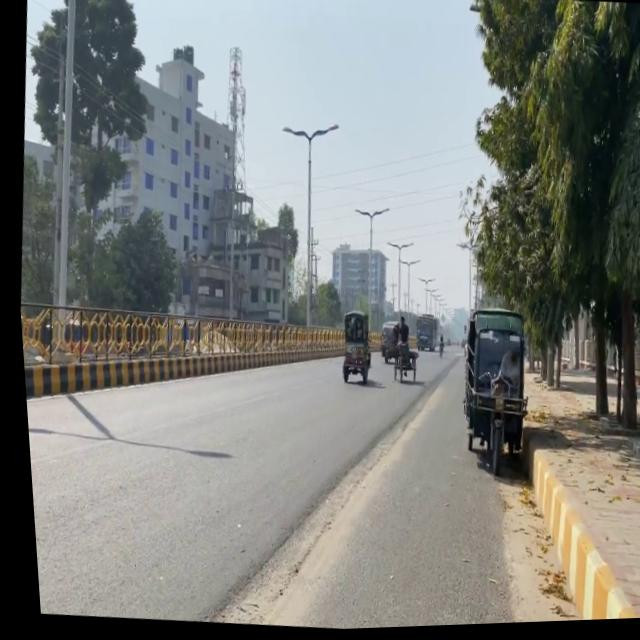Construction-barrier: (209, 419, 411, 635), (499, 429, 640, 626)
Fallen-tree: (333, 340, 368, 387), (385, 344, 414, 387), (374, 342, 393, 367)
Garbage-bin: (383, 317, 409, 372)
Light-pole: (27, 0, 97, 349)
Pole: (15, 284, 308, 424)
Traffic-cone: (445, 306, 534, 481), (407, 314, 438, 355)
